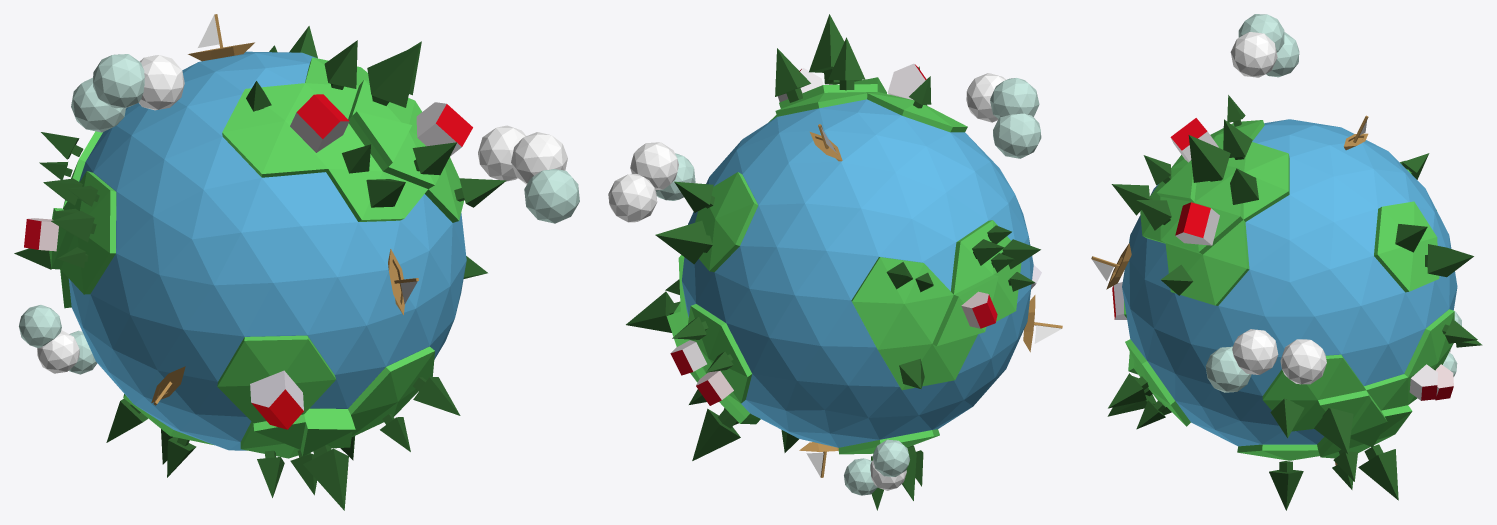
The model's file is earth_low_poly.glb.
The picture shows the model from 3 angles, left to right: view 1: azimuth 30°, elevation 25°; view 2: azimuth 150°, elevation 25°; view 3: azimuth 270°, elevation 25°; orthographic projection. The views are drawn at different scales.
Bounding box in the file's own units: 29.85 × 27.71 × 24.89.
